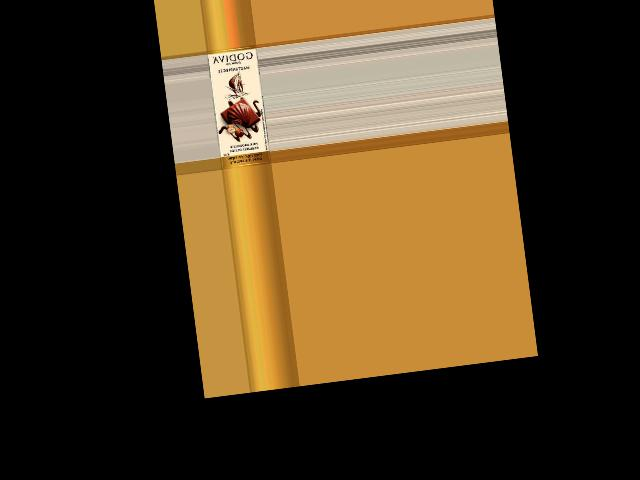chocolate: (206, 45, 270, 169)
